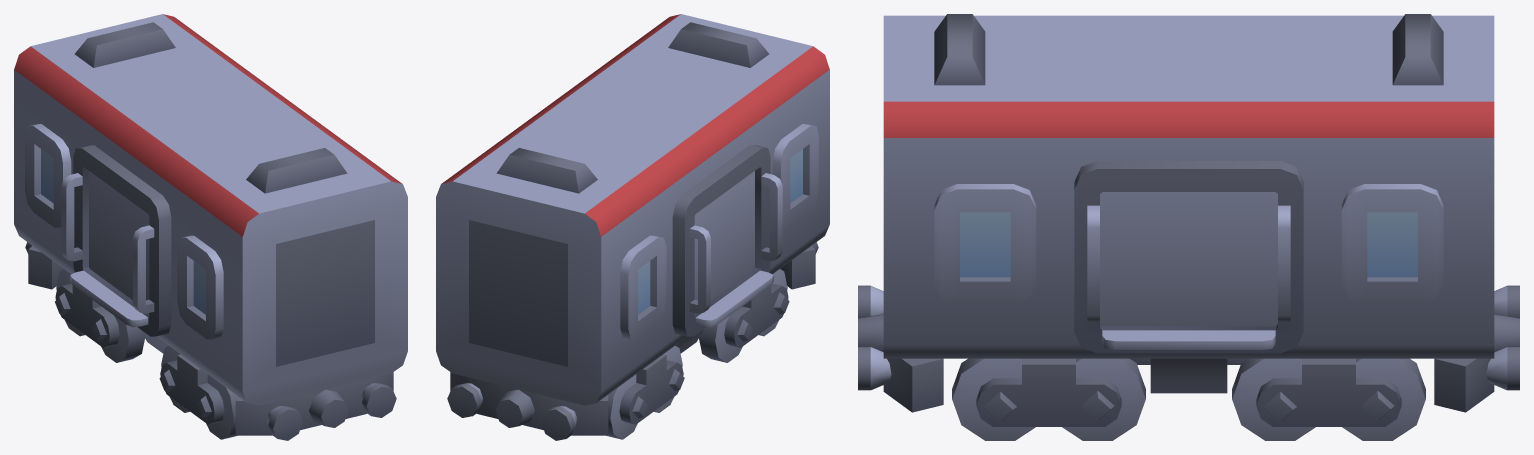
Rendered from train-electric-subway-c.glb.
The picture shows the model from 3 angles, left to right: view 1: azimuth 30°, elevation 25°; view 2: azimuth 150°, elevation 25°; view 3: azimuth 270°, elevation 25°; orthographic projection. The views are drawn at different scales.
Parts seen in each view (by area): view 1: train-electric-subway-c, wheels-front, wheels-back; view 2: train-electric-subway-c, wheels-back, wheels-front; view 3: train-electric-subway-c, wheels-front, wheels-back.
Part boxes in pixels (x1=…): train-electric-subway-c: x1=14, y1=14, x2=407, y2=440; wheels-front: x1=159, y1=346, x2=237, y2=439; wheels-back: x1=55, y1=269, x2=144, y2=362; train-electric-subway-c: x1=436, y1=14, x2=829, y2=440; wheels-back: x1=606, y1=346, x2=684, y2=439; wheels-front: x1=699, y1=269, x2=789, y2=362; train-electric-subway-c: x1=858, y1=14, x2=1519, y2=412; wheels-front: x1=952, y1=358, x2=1145, y2=440; wheels-back: x1=1232, y1=358, x2=1425, y2=440.
Bounding box in the file's own units: 1.35 × 1.57 × 2.6.
